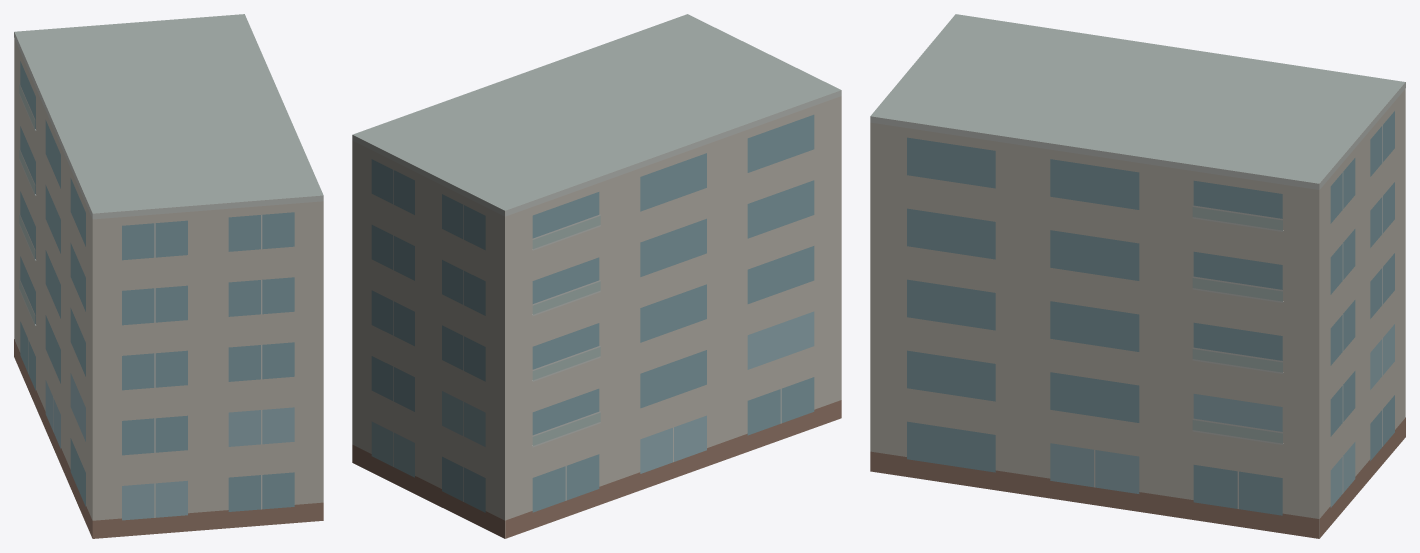
The model's file is survey-upis-32932439.glb.
The picture shows the model from 3 angles, left to right: view 1: azimuth 30°, elevation 25°; view 2: azimuth 150°, elevation 25°; view 3: azimuth 270°, elevation 25°; orthographic projection. The views are drawn at different scales.
Visible parts, largest first — view 1: survey-upis-32932439.tmp; view 2: survey-upis-32932439.tmp; view 3: survey-upis-32932439.tmp.
Part boxes in pixels (x1,y1,x2,y2): survey-upis-32932439.tmp: [14, 14, 323, 538]; survey-upis-32932439.tmp: [352, 14, 841, 538]; survey-upis-32932439.tmp: [870, 14, 1405, 538].
Size of the model in its own units: 14.06 by 13.7 by 18.73.
